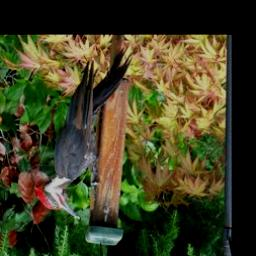Woodpecker: (33, 47, 133, 221)
